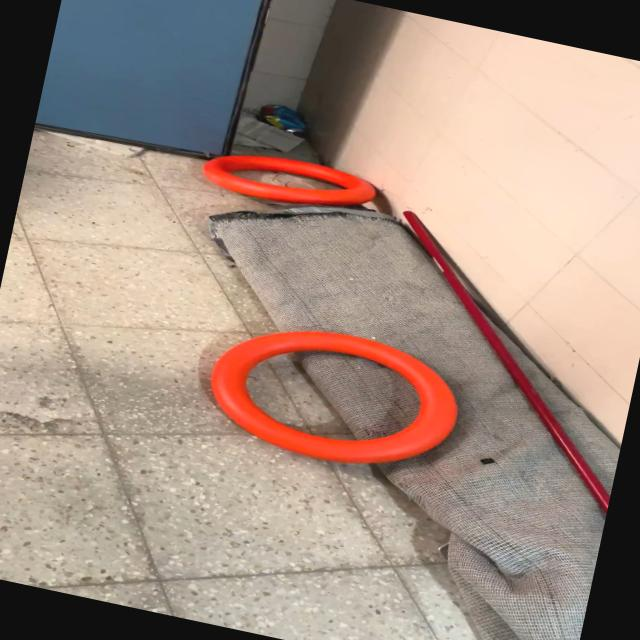note: (194, 306, 472, 488), (194, 139, 382, 224)
